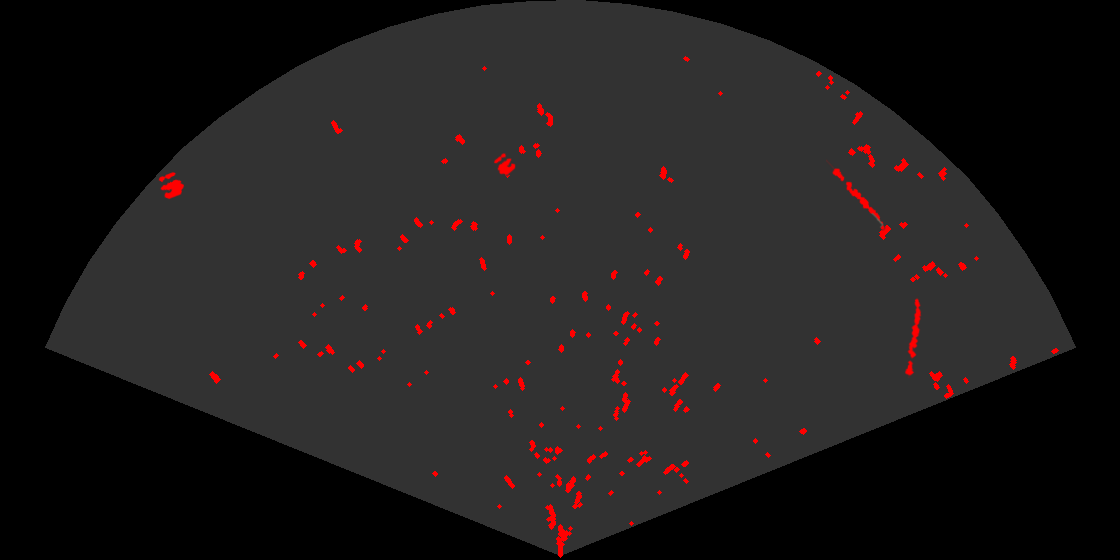ball: (157, 170, 186, 201), (492, 151, 517, 177)
chain: (826, 158, 886, 231), (903, 296, 923, 378)
